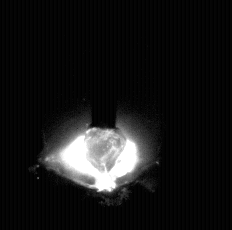arame: (91, 0, 119, 129)
poca: (45, 0, 157, 230)
